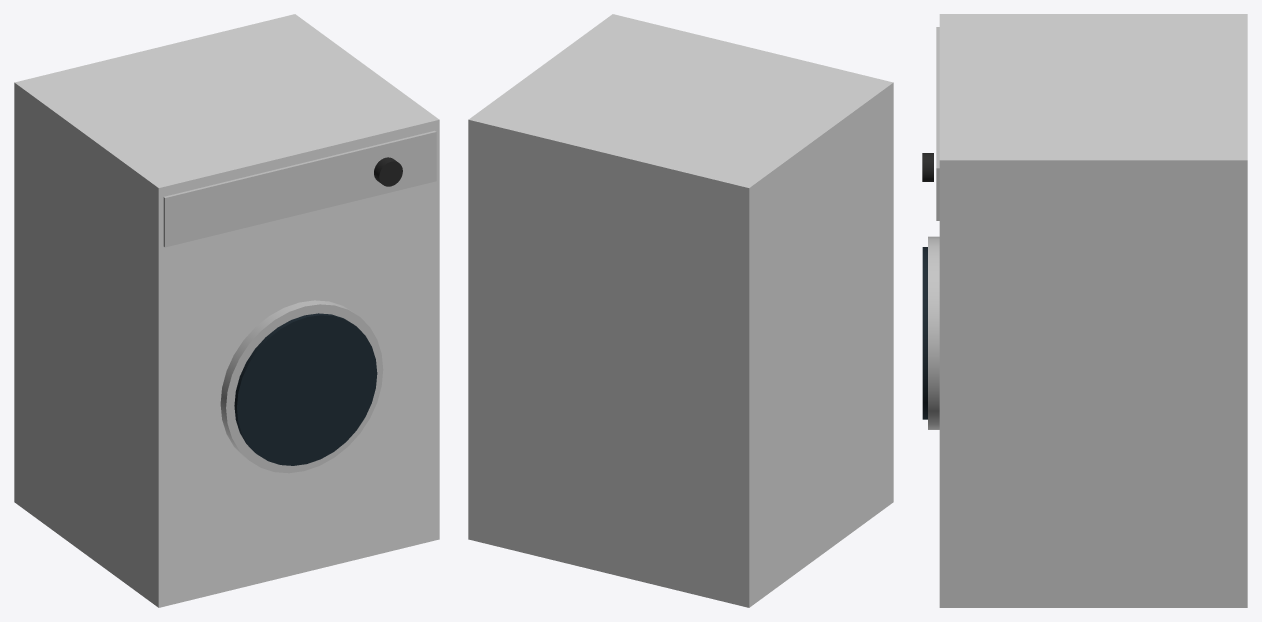
The model's file is lave-linge-valberg-wf914.glb.
3 views of the same model, side by side, from view 1: azimuth 30°, elevation 25°; view 2: azimuth 150°, elevation 25°; view 3: azimuth 270°, elevation 25° (orthographic). The views are drawn at different scales.
Parts seen in each view (by area): view 1: produit; view 2: produit; view 3: produit.
Boxes of the visible parts, <box> form: produit: <box>14,14,439,607</box>; produit: <box>468,14,893,607</box>; produit: <box>922,14,1247,607</box>.
Bounding box in the file's own units: 0.595 × 0.85 × 0.56.
